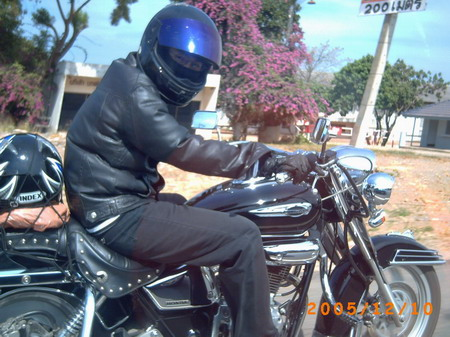helmet: (134, 4, 230, 108), (1, 127, 71, 213)
